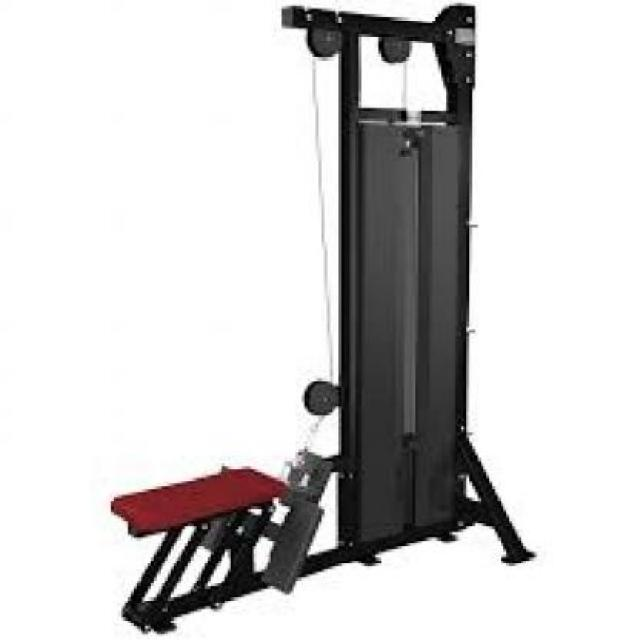Seated Cable Rows: (100, 5, 543, 637)
